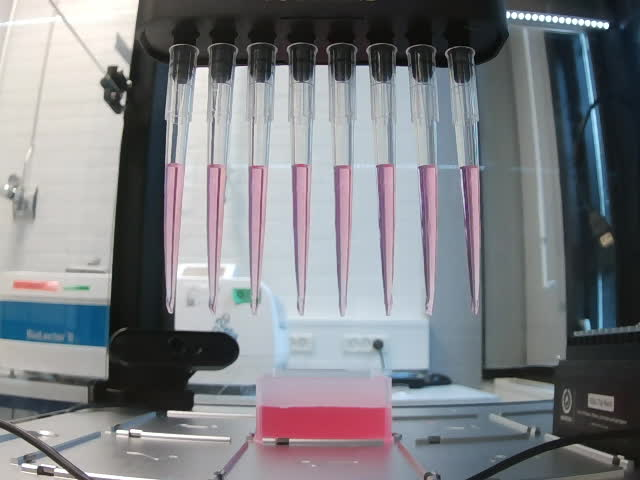pipet: (444, 44, 483, 315), (404, 43, 440, 316), (325, 41, 359, 319), (366, 42, 400, 319), (165, 46, 200, 315), (205, 43, 239, 315), (287, 42, 320, 319), (246, 42, 278, 317)
red liquid: (416, 164, 443, 317), (375, 162, 399, 319), (246, 165, 270, 317), (290, 163, 313, 319), (206, 163, 228, 315), (459, 165, 481, 315), (333, 164, 354, 319), (165, 163, 186, 314)
